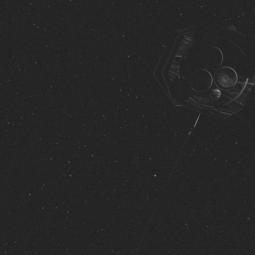xmm_newton: (111, 12, 255, 150)
